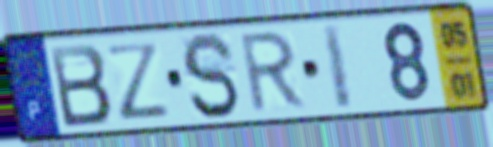8: (381, 19, 434, 106)
B: (46, 41, 115, 130)
I: (318, 21, 356, 114)
R: (238, 28, 310, 116)
S: (178, 29, 243, 122)
Z: (102, 39, 173, 123)
